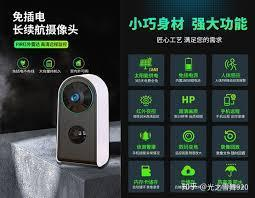maru: (55, 73, 113, 173)
